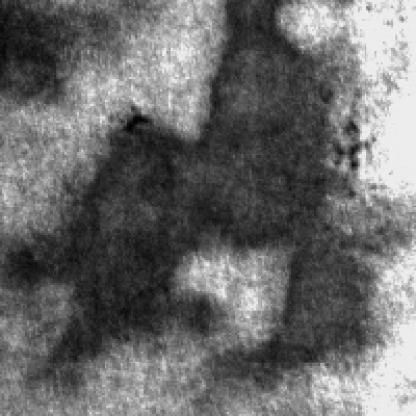patches: (4, 116, 212, 385), (188, 6, 352, 258), (189, 247, 408, 400), (0, 2, 79, 104)
